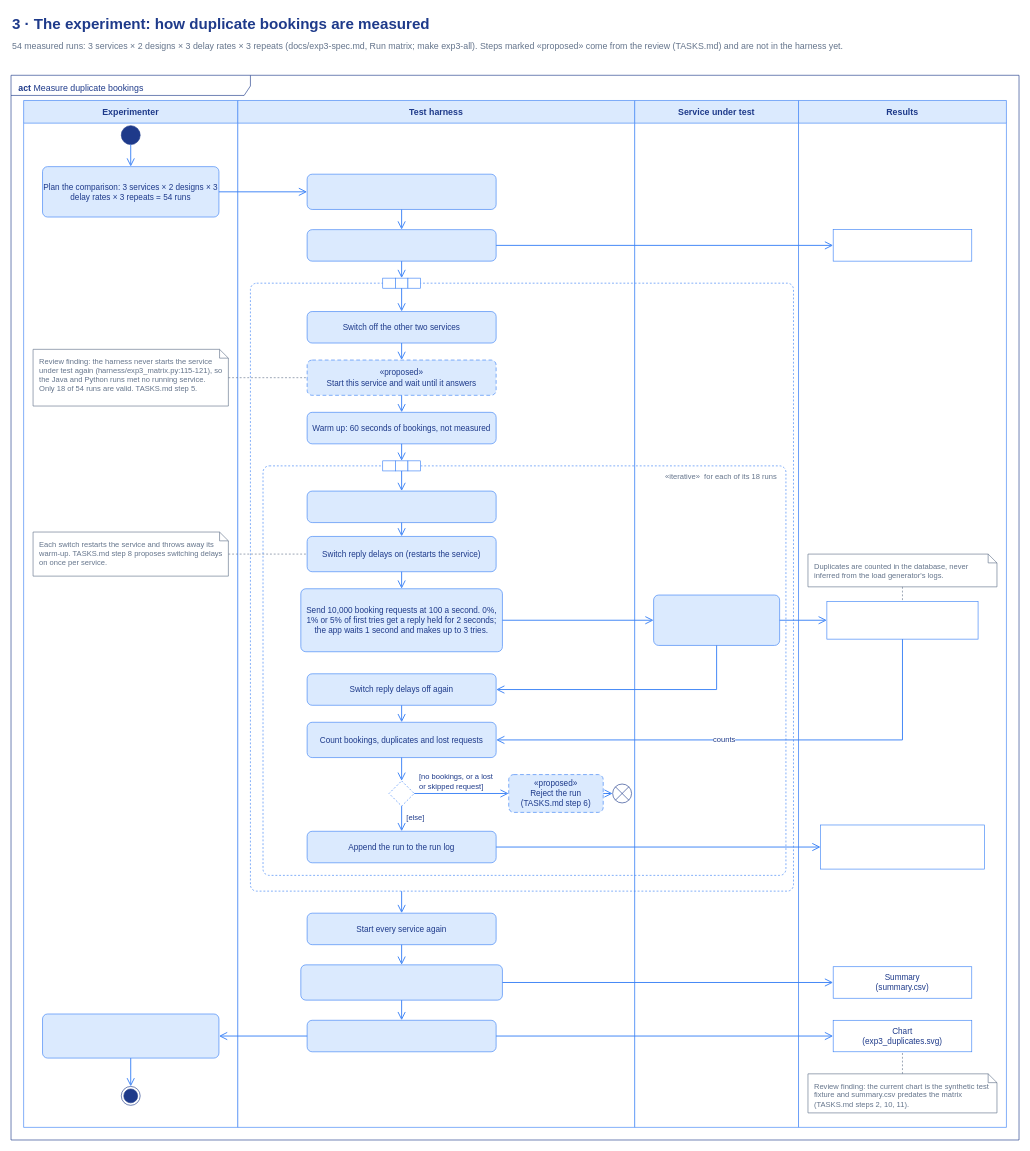
The diagram is 1030 pixels wide and 1151 high, and some of its shapes have lost their labels. The box of each missing label's shape, as (x1, y1, x2, y2) in pixels:
Clear its bookings, deposits and keys: (306, 490, 496, 523)
Draw the duplicates chart: (306, 1020, 496, 1052)
Handle every try with the naive or the keyed design (pages 1 and 2): (653, 594, 780, 645)
Machine details (host.json): (833, 229, 972, 261)
Read the results, then write the chart title and the conclusion: (42, 1013, 219, 1058)
Record the test machine's details: (306, 229, 496, 261)
Skip runs already logged for this code version: (306, 174, 496, 209)
Summarise each service, design and delay rate: median and range: (300, 964, 502, 1000)
«datastore» Bookings, deposits and keys: (826, 601, 978, 639)
«datastore» Run log and raw load results (runs.csv, raw/*.json): (820, 824, 984, 869)
«iterative» for each service: .NET, Java, Python: (250, 283, 793, 891)
«proposed» Run valid?: (388, 780, 414, 806)
